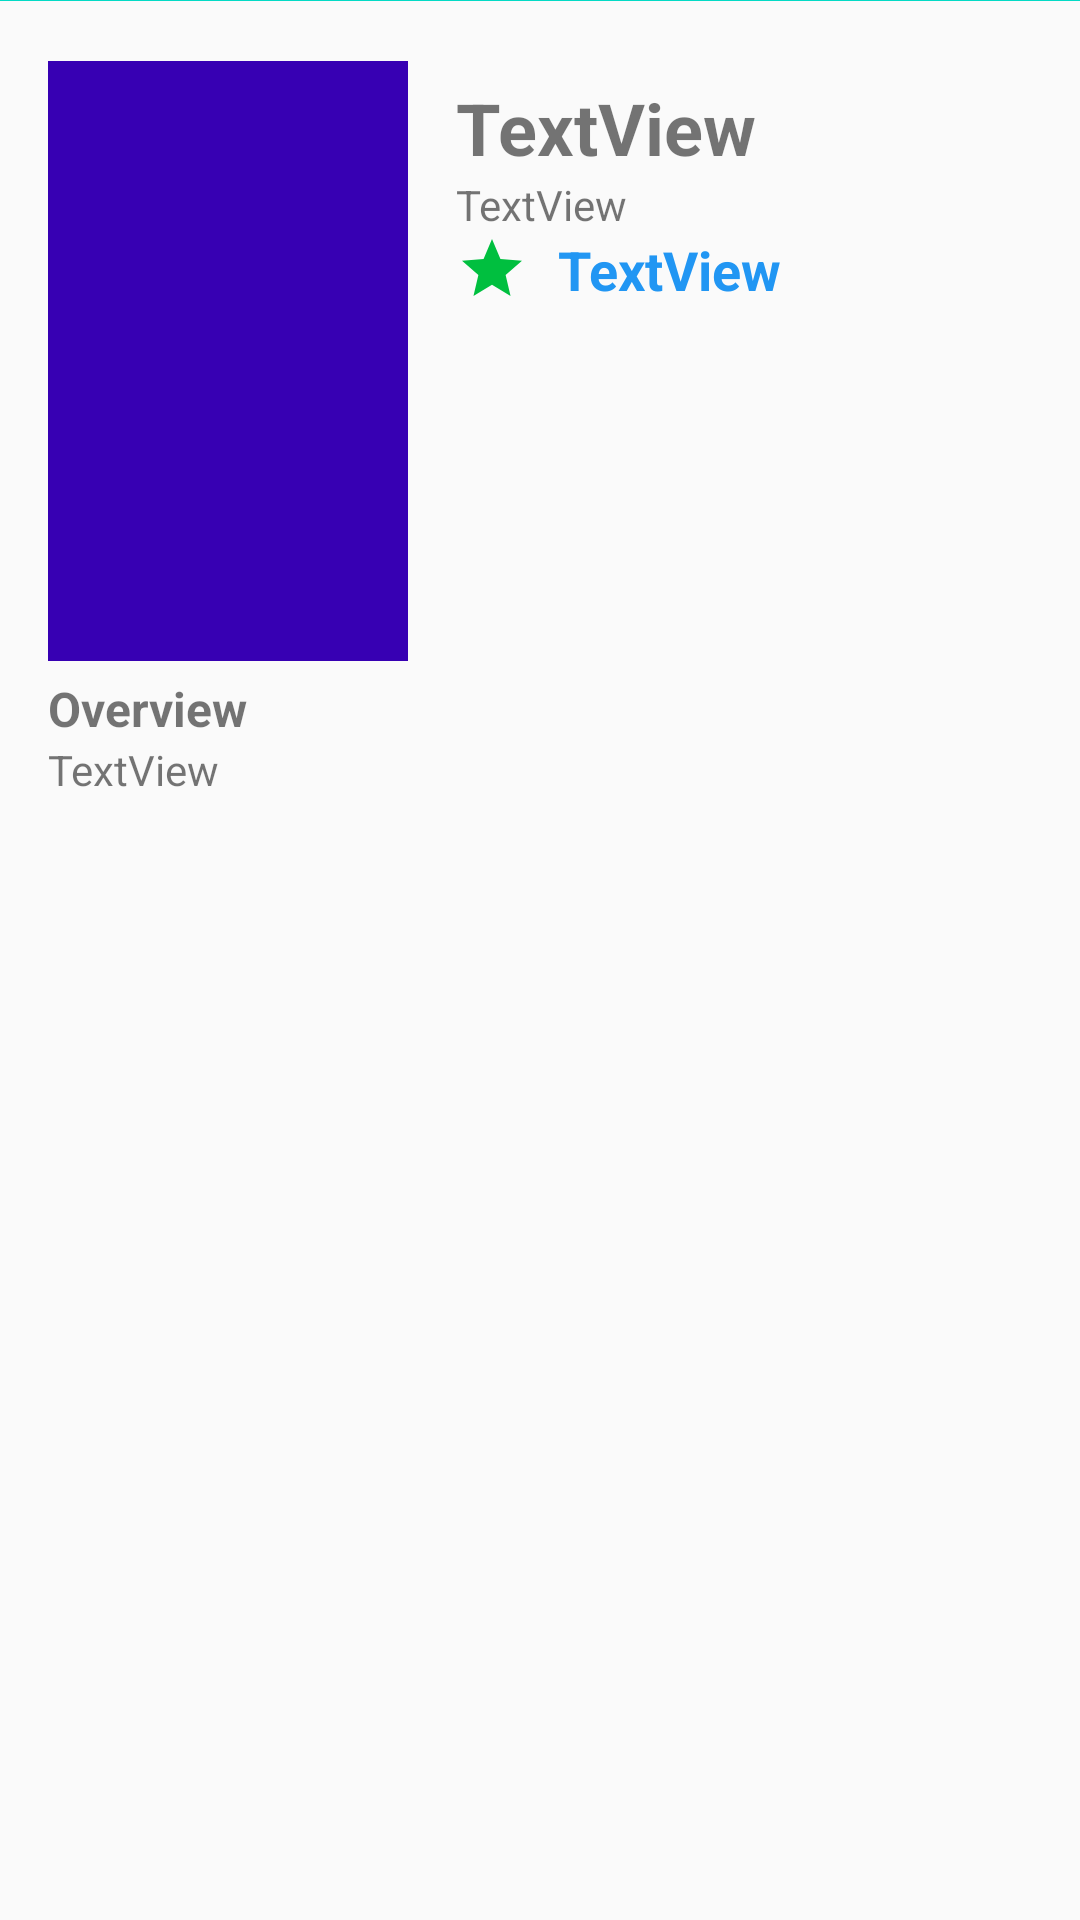

Where icons sit on this 1080x1920 app screen, as region(x1, y1, x2, y2):
star: region(462, 239, 522, 296)
